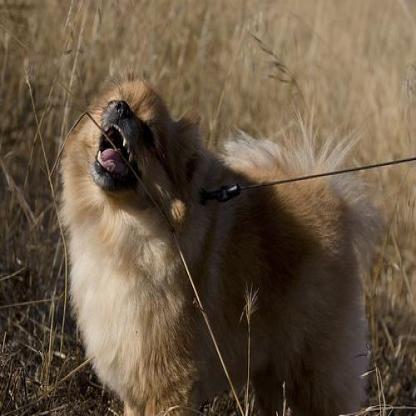Pomeranian: (56, 76, 377, 414)
